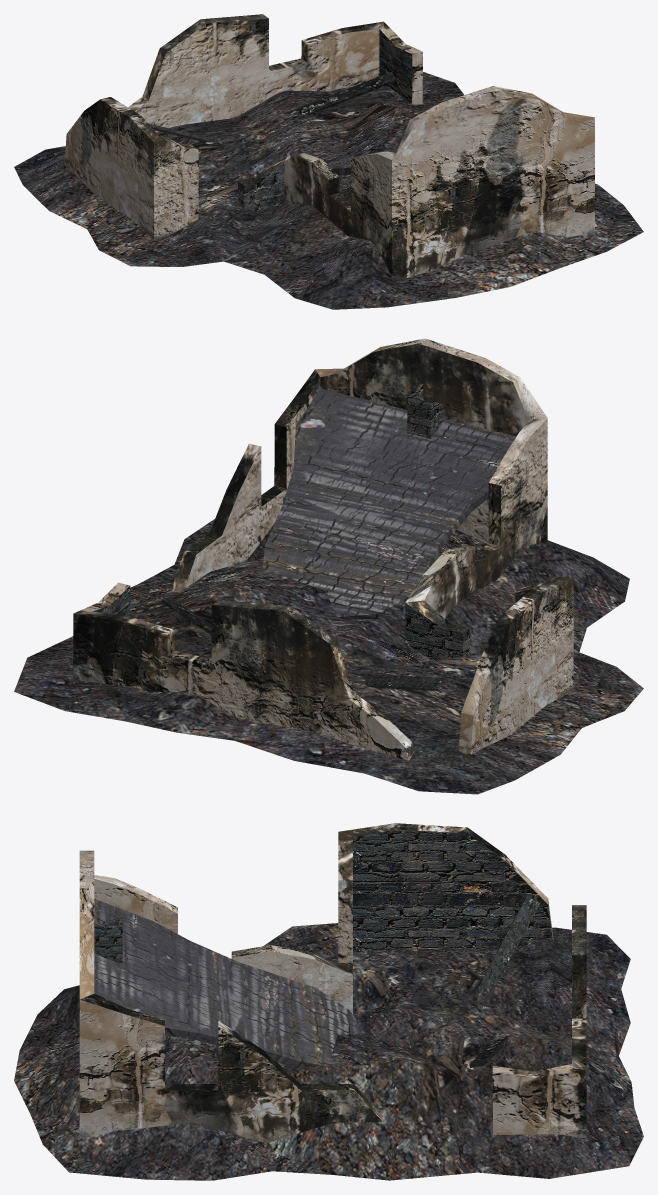
The model's file is haus2_ruins.fbx.
The picture shows the model from 3 angles, top to bottom: view 1: azimuth 30°, elevation 25°; view 2: azimuth 150°, elevation 25°; view 3: azimuth 270°, elevation 25°; orthographic projection. The views are drawn at different scales.
Parts seen in each view (by area): view 1: ruins2_LOD0; view 2: ruins2_LOD0; view 3: ruins2_LOD0.
Boxes of the visible parts, left/top/right/bottom form: ruins2_LOD0: left=14, top=14, right=643, bottom=309; ruins2_LOD0: left=14, top=338, right=643, bottom=794; ruins2_LOD0: left=14, top=823, right=643, bottom=1180.
Size of what is drawn, in the model's own units: 23.78 by 8.88 by 24.47.
